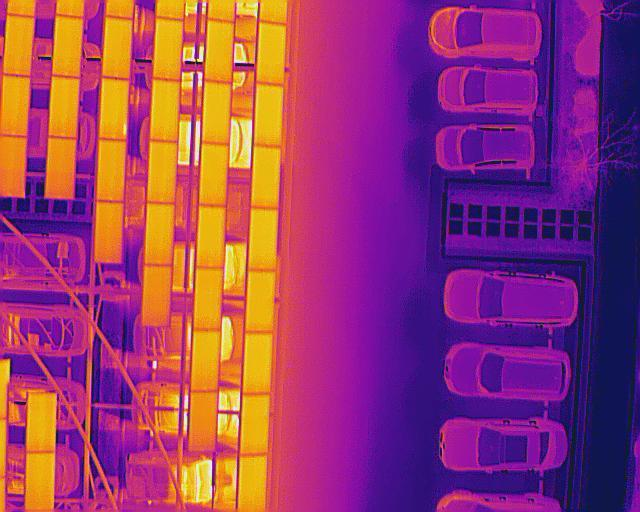Cell: (98, 79, 128, 140)
No-Anomaly: (45, 137, 76, 200), (239, 393, 270, 456), (3, 14, 34, 75), (242, 331, 272, 394), (141, 264, 171, 327), (248, 207, 277, 271), (95, 140, 125, 201), (196, 206, 225, 269), (48, 77, 78, 137), (256, 22, 285, 84), (193, 268, 222, 329), (236, 455, 267, 512), (154, 17, 182, 80), (199, 145, 228, 205), (254, 84, 283, 144), (26, 393, 55, 453), (192, 330, 220, 392), (252, 146, 280, 208), (245, 271, 273, 332), (95, 202, 123, 263), (202, 82, 230, 143), (205, 20, 233, 81), (103, 17, 131, 78), (188, 391, 216, 452), (145, 202, 172, 265), (24, 453, 53, 511), (148, 141, 175, 203), (151, 80, 179, 139), (53, 16, 81, 75), (2, 75, 28, 136)
